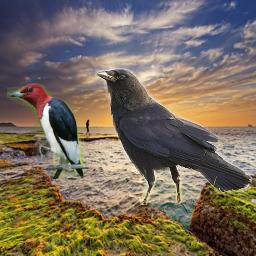Crow: (94, 68, 252, 205)
Woodpecker: (7, 83, 84, 179)
